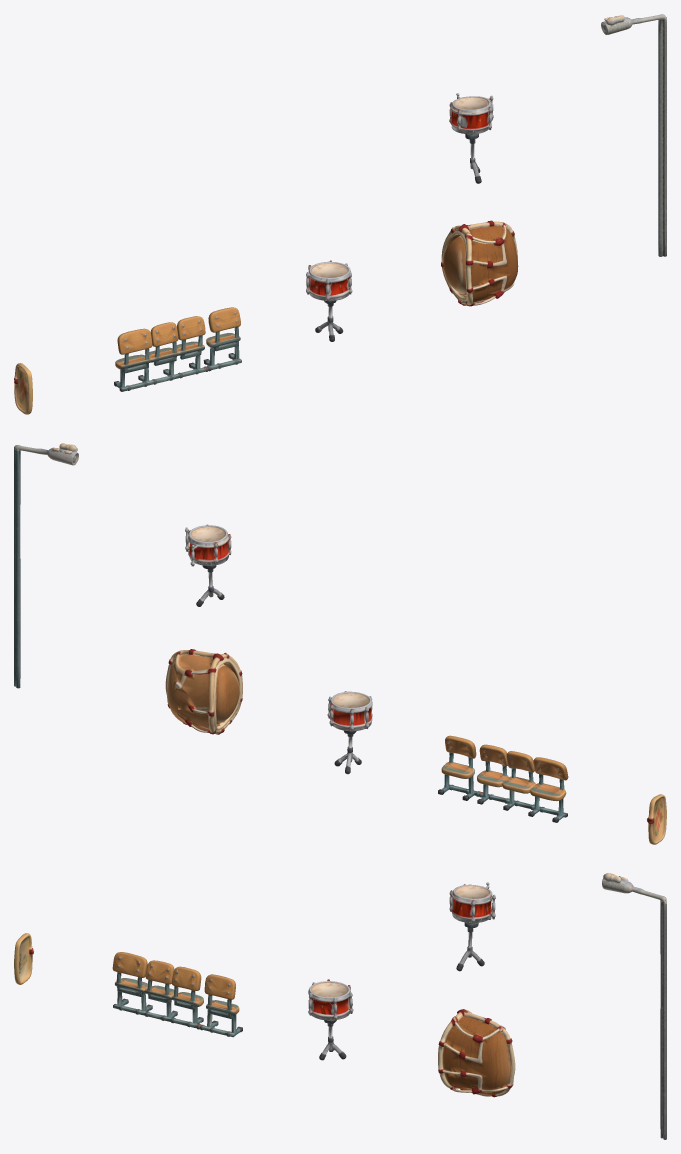
File: set_music.glb
The picture shows the model from 3 angles, top to bottom: view 1: azimuth 30°, elevation 25°; view 2: azimuth 150°, elevation 25°; view 3: azimuth 330°, elevation 25°; orthographic projection.
Visible parts, largest first — view 1: p3, p1, p4, p2, p0; view 2: p3, p1, p4, p2, p0; view 3: p3, p1, p4, p2, p0.
Boxes of the visible parts, left/top/right/bottom form: p3: left=441, top=93, right=518, bottom=306; p1: left=114, top=307, right=241, bottom=391; p4: left=601, top=14, right=666, bottom=256; p2: left=306, top=260, right=352, bottom=341; p0: left=14, top=363, right=32, bottom=414; p3: left=165, top=524, right=242, bottom=734; p1: left=438, top=735, right=568, bottom=822; p4: left=14, top=443, right=78, bottom=688; p2: left=327, top=691, right=372, bottom=774; p0: left=647, top=794, right=666, bottom=844; p3: left=438, top=882, right=515, bottom=1097; p1: left=112, top=952, right=242, bottom=1037; p4: left=602, top=873, right=666, bottom=1139; p2: left=308, top=979, right=353, bottom=1060; p0: left=14, top=933, right=33, bottom=984.
Bounding box in the file's own units: 12.68 × 4.75 × 1.08.
Materials: 1 (1 with a texture image).
